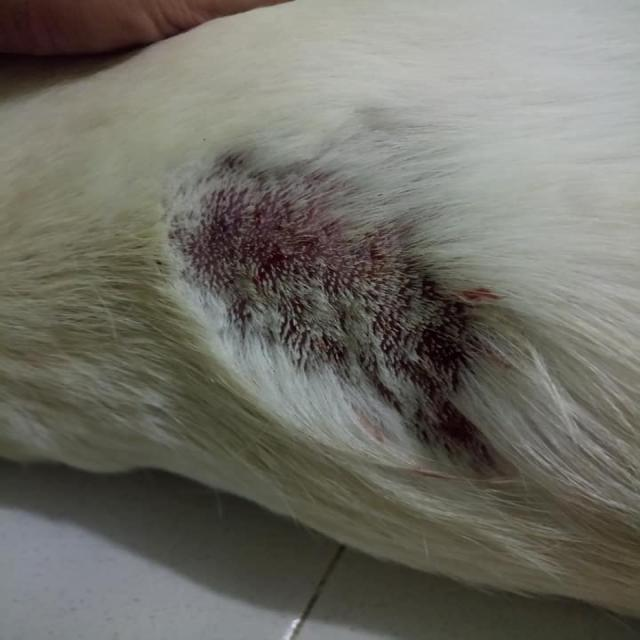hac lao: (166, 155, 520, 484)
